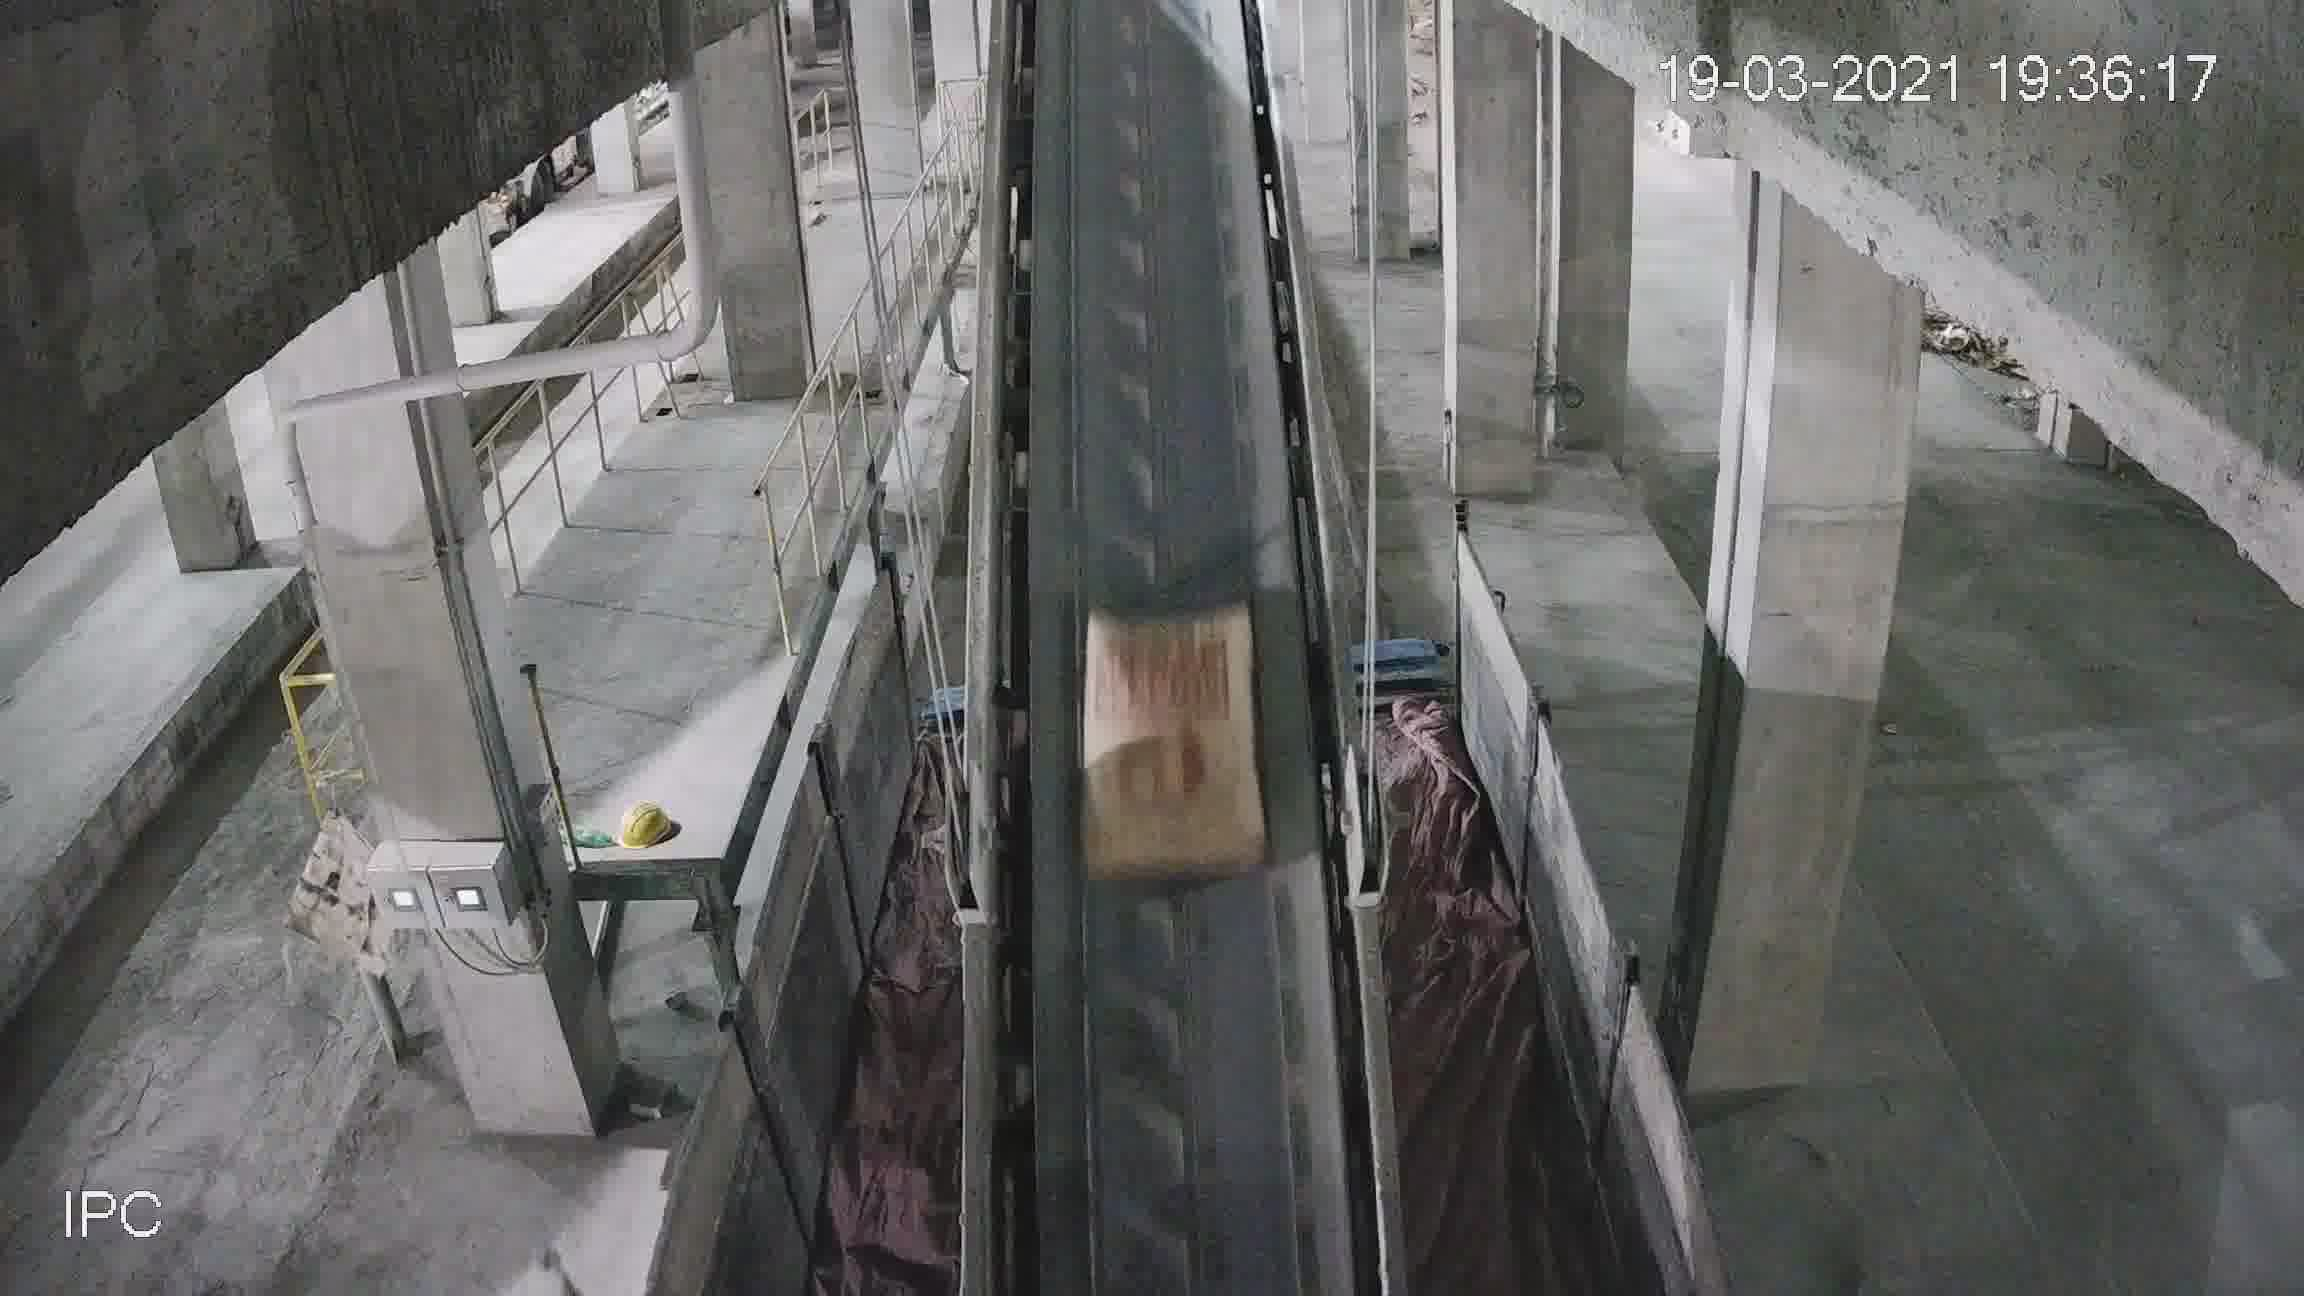bag: (1087, 614, 1250, 870)
belt: (951, 14, 1391, 1264)
